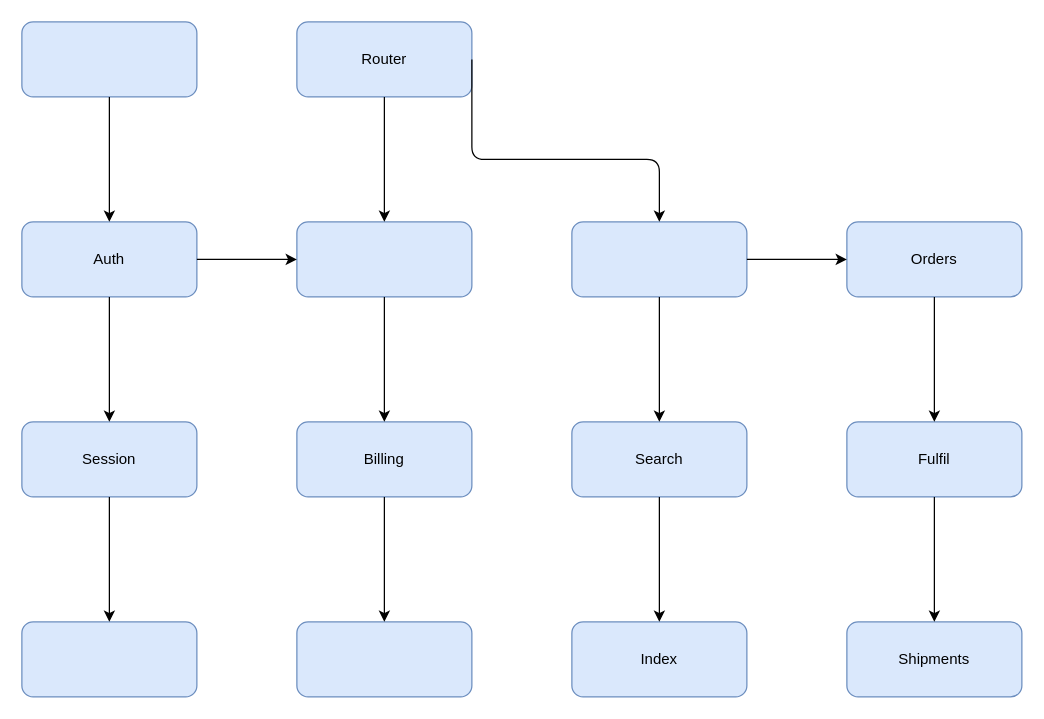
Some shapes in this 1044 by 719 pixel diagram are drawn without their labels. The centre of each missing label's shape, as x and y in pixels:
"Catalog" goes at pixel 659 259.
"Gateway" goes at pixel 384 259.
"Ingress" goes at pixel 109 59.
"Ledger" goes at pixel 384 659.
"Token DB" goes at pixel 109 659.
